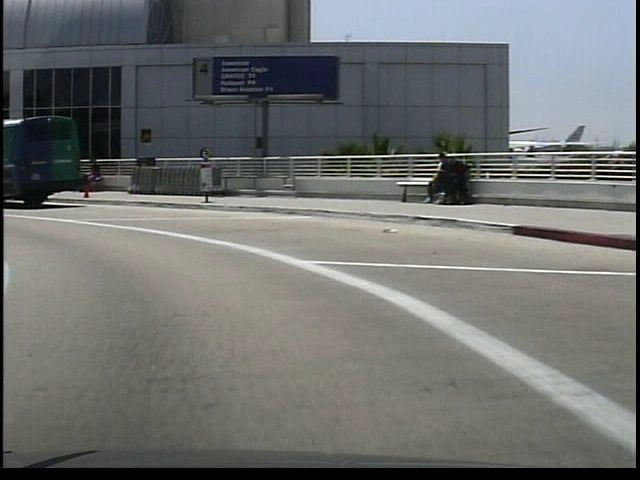person: (81, 153, 102, 197)
